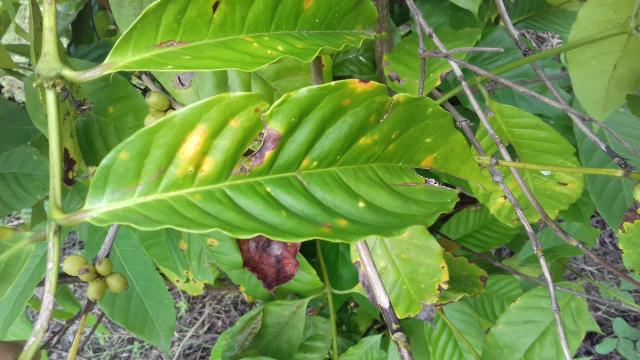rust_level_2: (83, 74, 508, 248)
